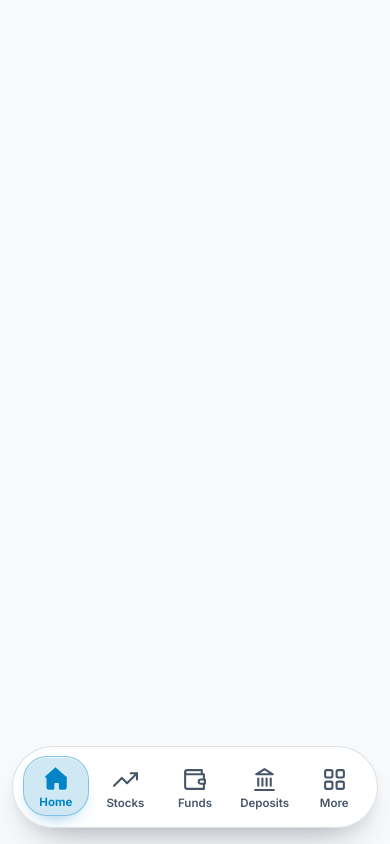
MobileBottomNav Component › opens More sheet when More button is clicked and manages aria attributes
What coordinates should you click on to do the following:
click the button with aria-label "More asset categories"
I would click on:
 (334, 787)
Its box is top-left (299, 753), bottom-right (369, 821).
Wait 1000 ms
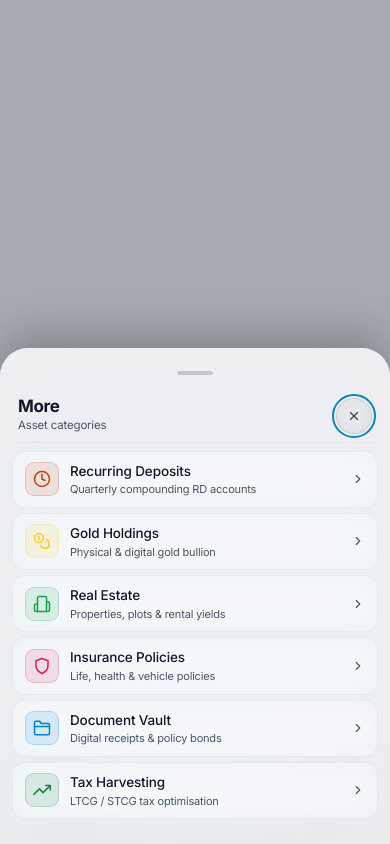
Check: the button named "More asset categories" is expanded, box top-left (299, 753), bottom-right (369, 821)
Check: the dialog is shown, box top-left (0, 348), bottom-right (389, 843)
